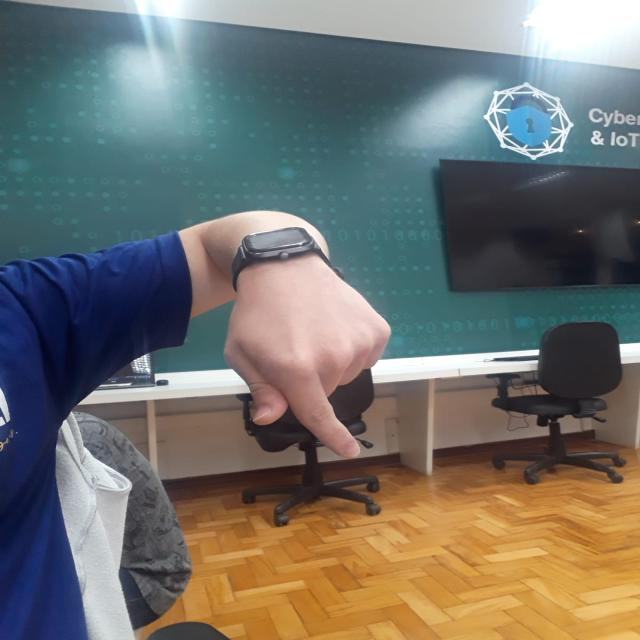Q: (210, 266, 398, 460)
